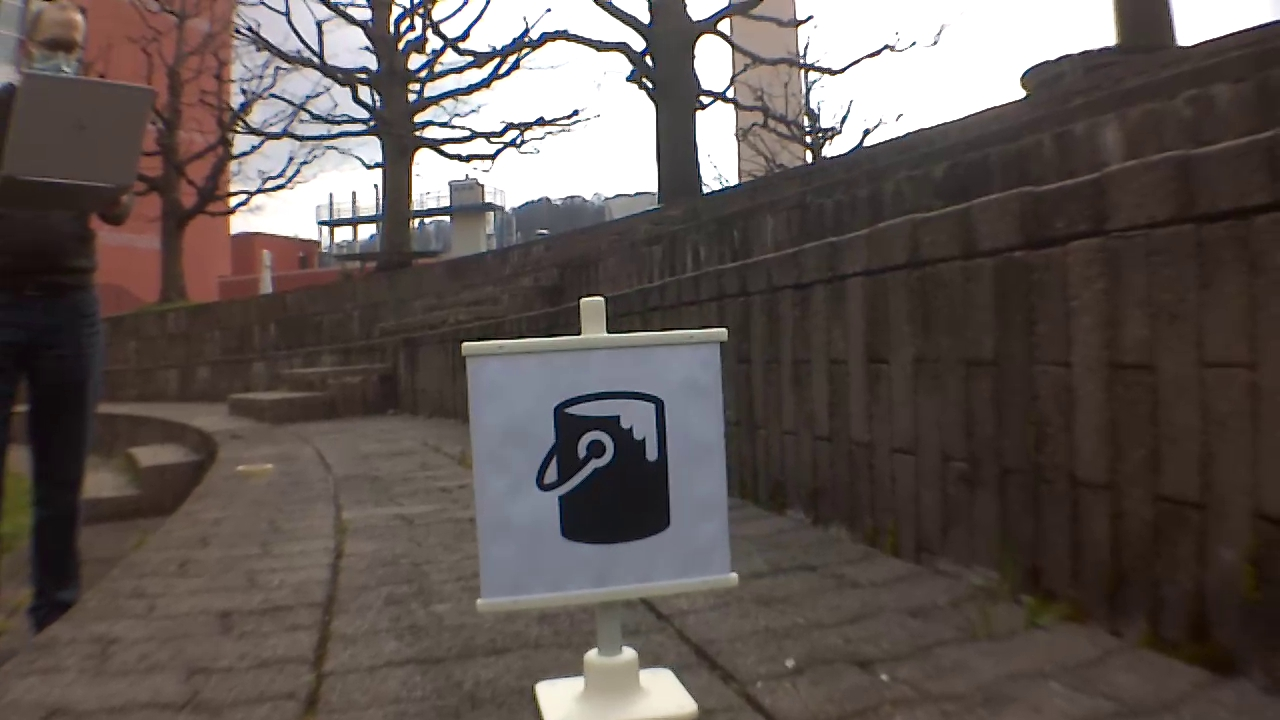bucket: (536, 387, 672, 553)
